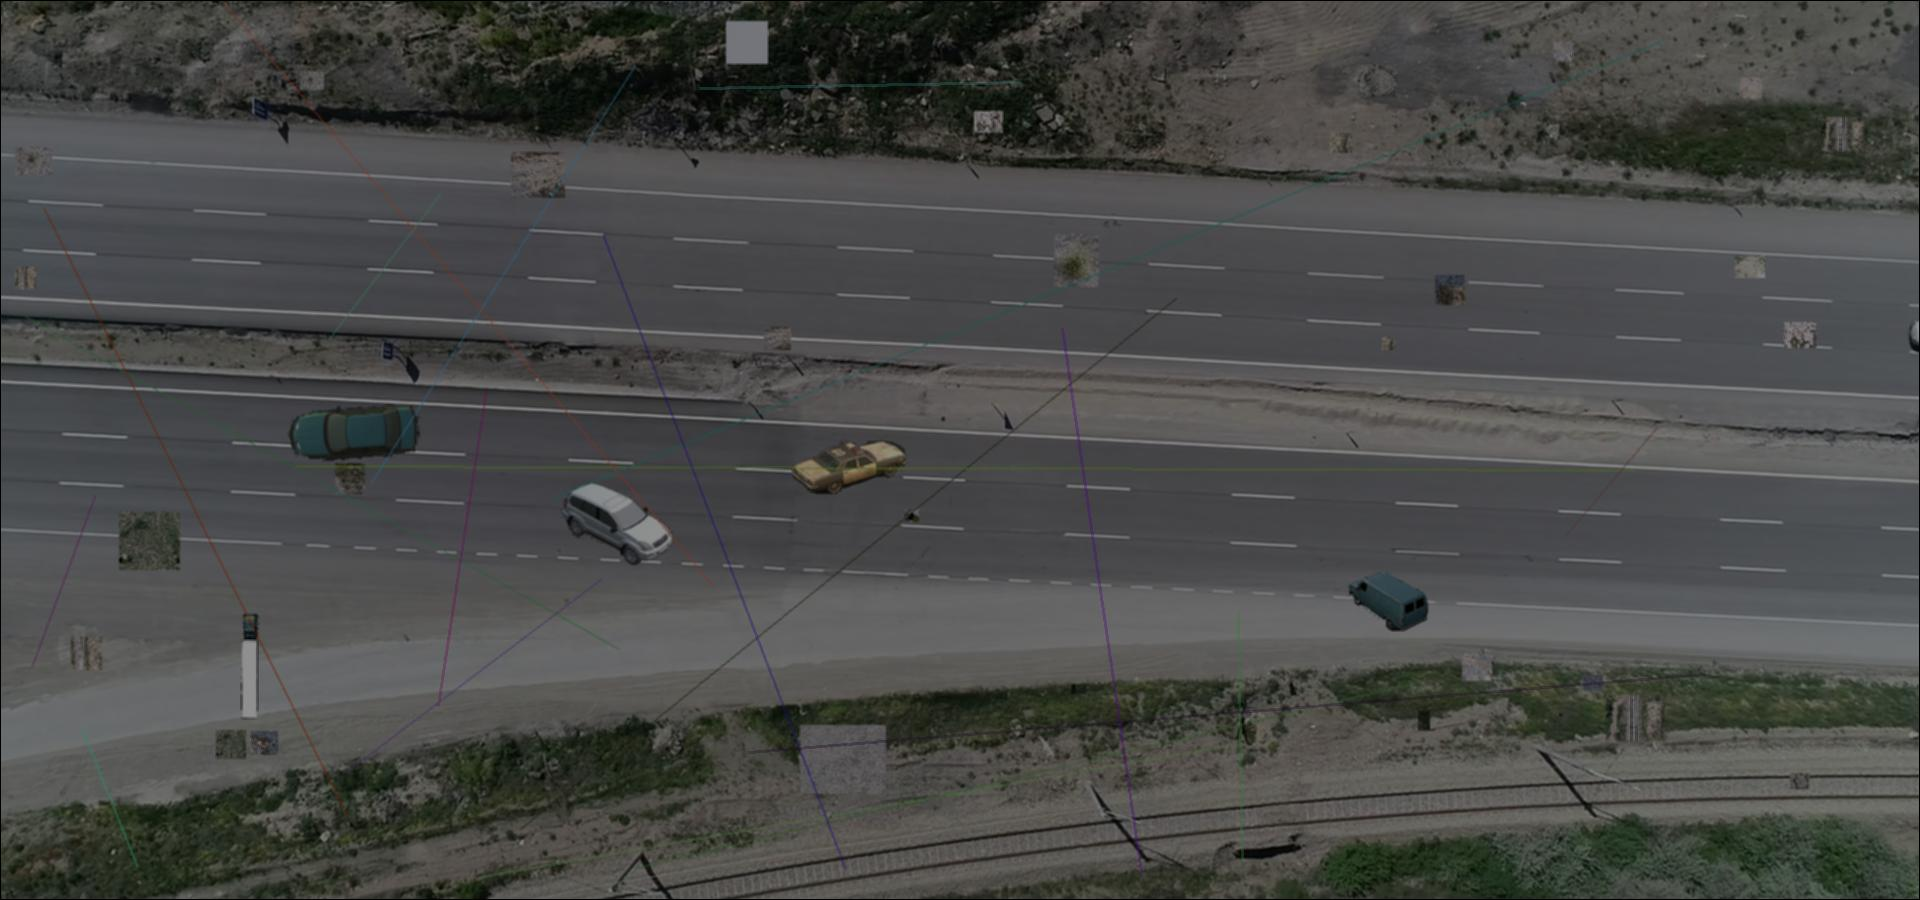arac: (560, 479, 673, 566), (288, 404, 420, 460), (792, 435, 912, 493), (1348, 571, 1429, 632), (238, 613, 263, 720)
